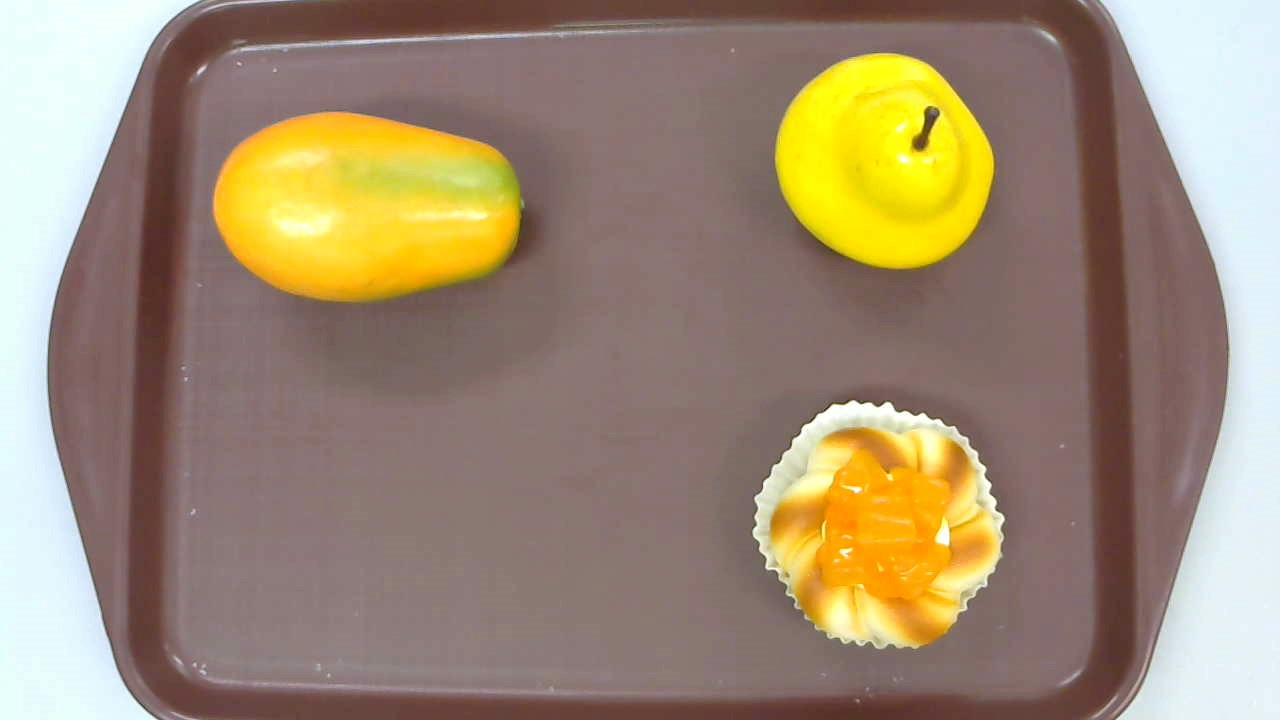mango tart: (752, 399, 1007, 651)
papya: (213, 109, 524, 301)
yellow pear: (772, 53, 995, 272)
